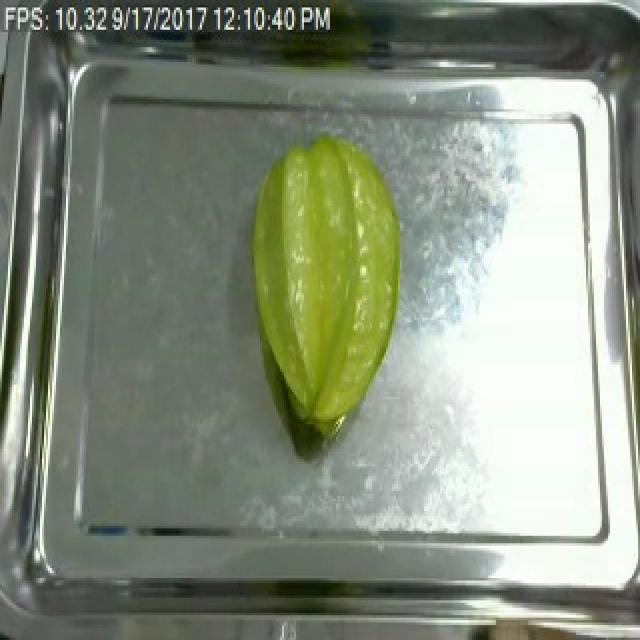fruit: (236, 129, 412, 439)
